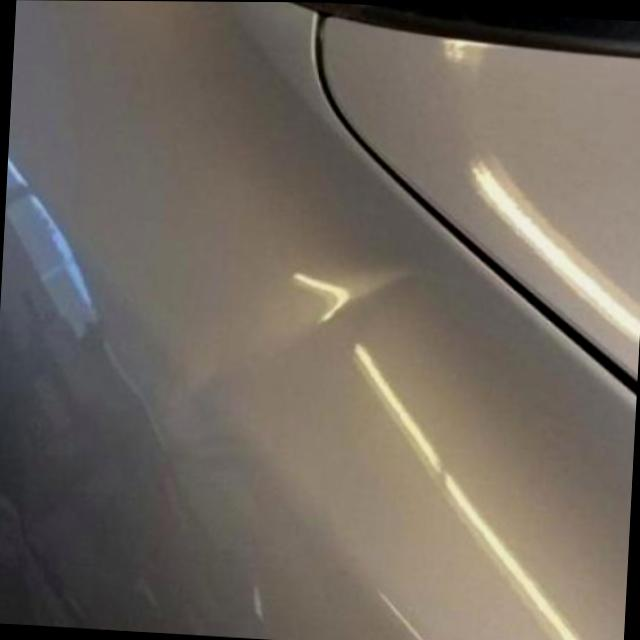PDR-Dent: (272, 265, 370, 335)
